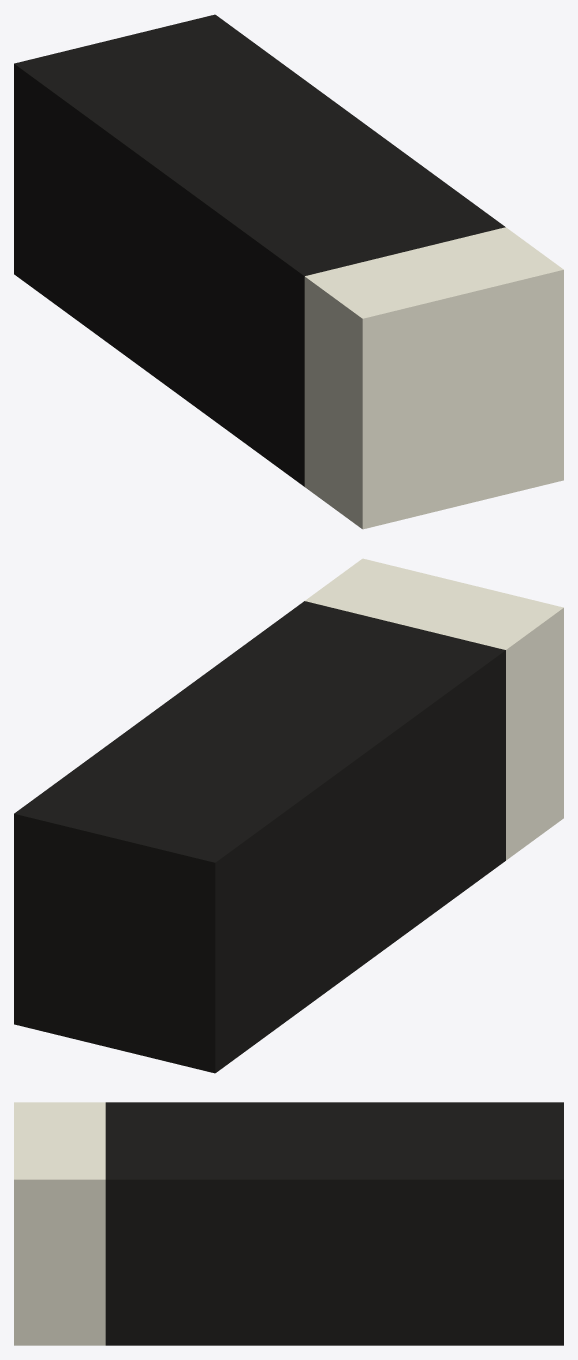
The model's file is char-30-arm_fore_lgt_med_2_sh_ja_du.obj.
The picture shows the model from 3 angles, top to bottom: view 1: azimuth 30°, elevation 25°; view 2: azimuth 150°, elevation 25°; view 3: azimuth 270°, elevation 25°; orthographic projection. The views are drawn at different scales.
Parts seen in each view (by area): view 1: arm_fore_lgt_med_2_sh_ja_du; view 2: arm_fore_lgt_med_2_sh_ja_du; view 3: arm_fore_lgt_med_2_sh_ja_du.
Part boxes in pixels (x1,y1,x2,y2): arm_fore_lgt_med_2_sh_ja_du: (14,14,563,529); arm_fore_lgt_med_2_sh_ja_du: (14,558,563,1073); arm_fore_lgt_med_2_sh_ja_du: (14,1102,563,1345).
Size of the model in its own units: 0.2 by 0.2 by 0.6.
Materials: 1 (1 with a texture image).
